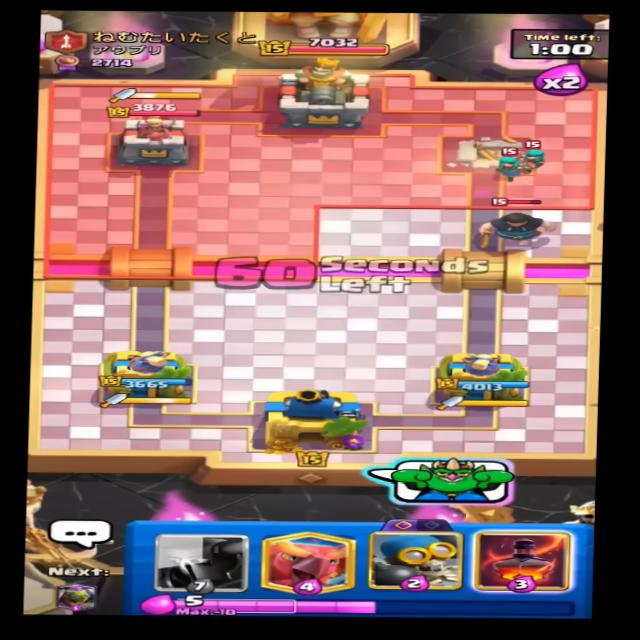rascal-boy: (476, 204, 558, 245)
rascal-girl: (514, 135, 547, 169), (485, 146, 519, 176)
